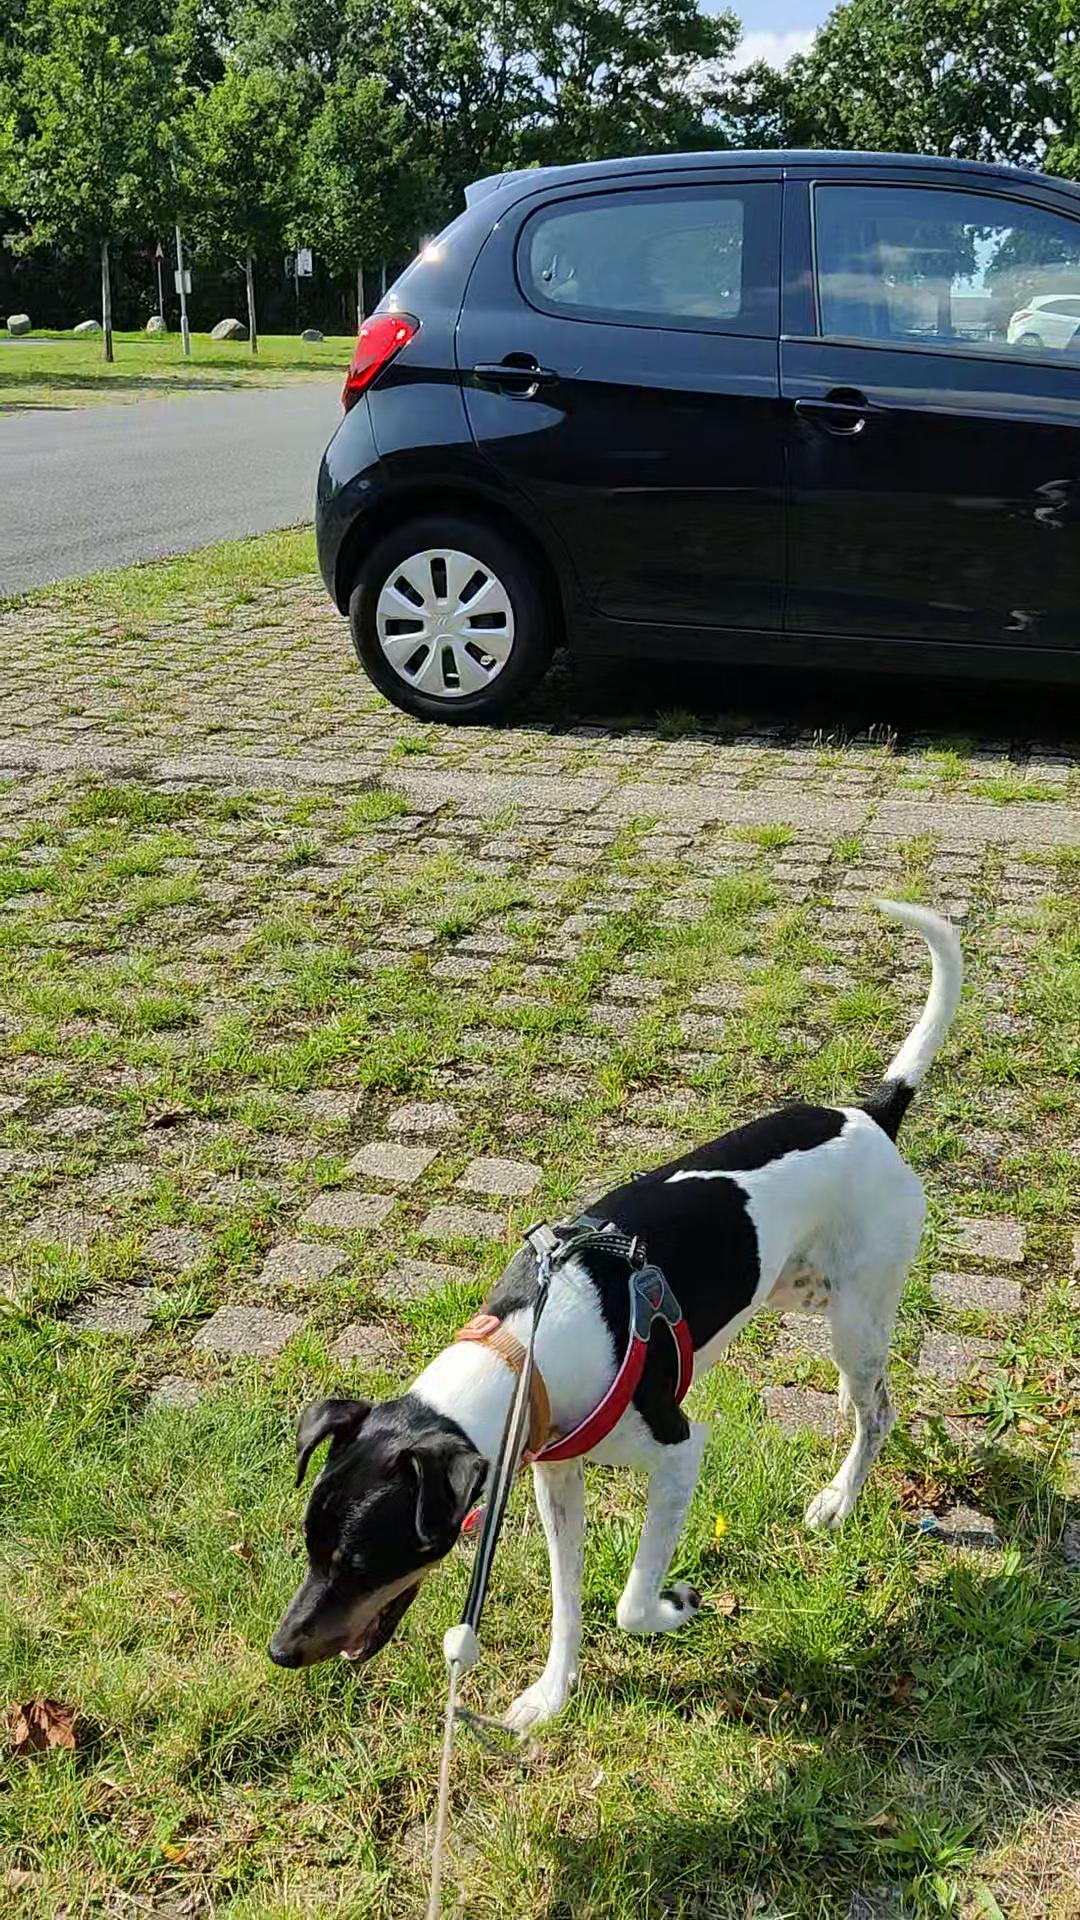Dog: (255, 891, 968, 1739)
